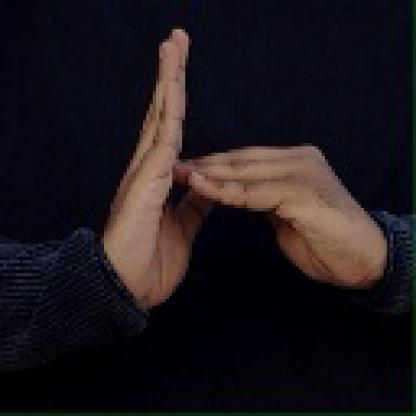Z: (106, 27, 378, 312)
